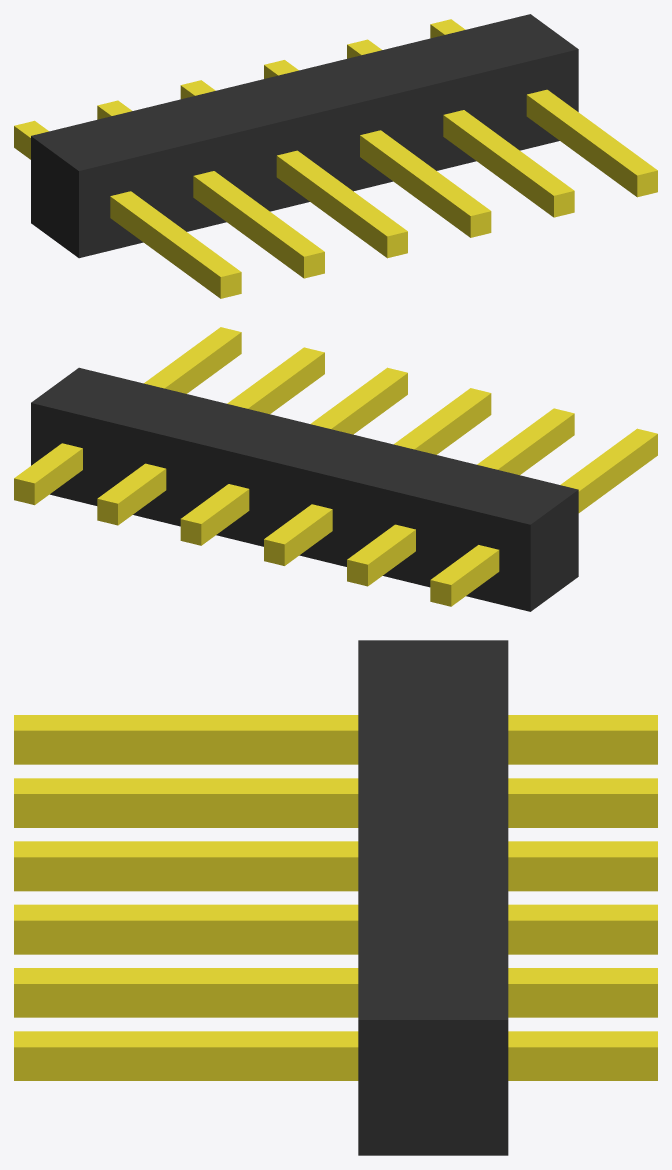
The picture shows the model from 3 angles, top to bottom: view 1: azimuth 30°, elevation 25°; view 2: azimuth 150°, elevation 25°; view 3: azimuth 270°, elevation 25°; orthographic projection. The views are drawn at different scales.
Parts seen in each view (by area): view 1: SamtecTSWbody (×6), SamtecTSWpin (×6); view 2: SamtecTSWbody (×6), SamtecTSWpin (×6); view 3: SamtecTSWpin (×6), SamtecTSWbody (×6).
Boxes of the visible parts, x1=… form: SamtecTSWbody (×6): x1=31, y1=14, x2=578, y2=258; SamtecTSWpin (×6): x1=14, y1=19, x2=657, y2=298; SamtecTSWbody (×6): x1=31, y1=367, x2=578, y2=611; SamtecTSWpin (×6): x1=14, y1=327, x2=657, y2=606; SamtecTSWpin (×6): x1=14, y1=715, x2=657, y2=1080; SamtecTSWbody (×6): x1=358, y1=640, x2=508, y2=1155.
Bounding box in the file's own units: 15.24 × 2.54 × 10.92.
